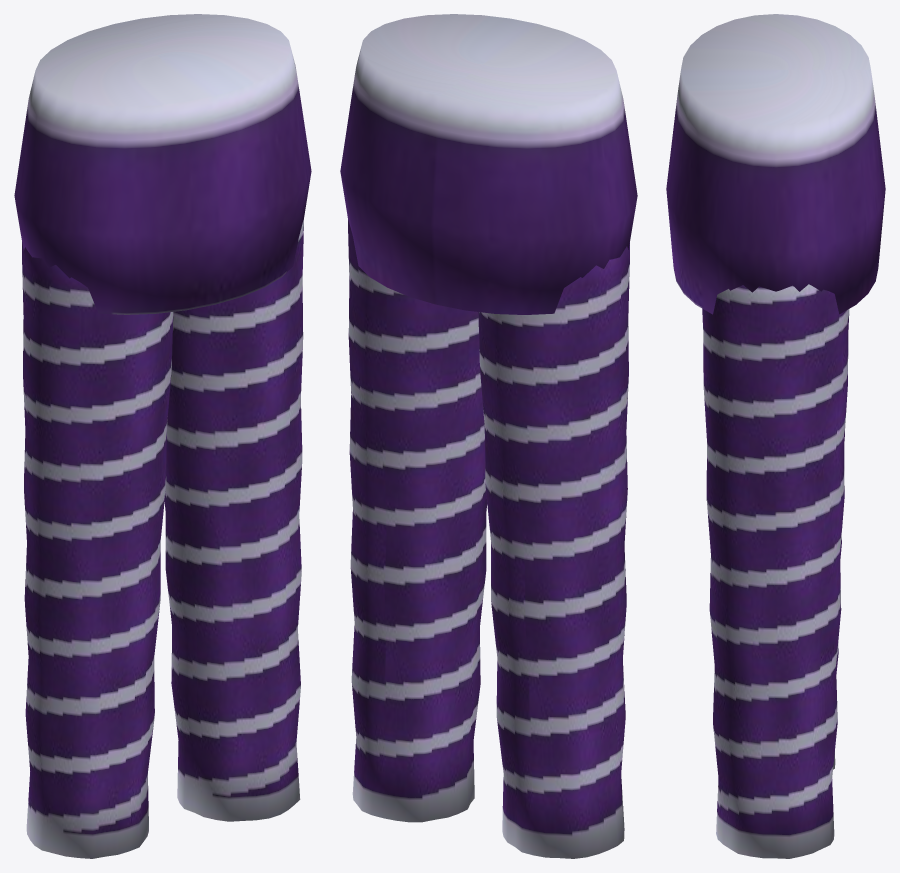
Rendered from amethyst_wraps_legs.glb.
3 renders of one model, left to right at view 1: azimuth 30°, elevation 25°; view 2: azimuth 150°, elevation 25°; view 3: azimuth 270°, elevation 25°, orthographic. The views are drawn at different scales.
Parts seen in each view (by area): view 1: amethyst_wraps_legs; view 2: amethyst_wraps_legs; view 3: amethyst_wraps_legs.
Part boxes in pixels (left/top/right/bottom): amethyst_wraps_legs: left=14, top=14, right=311, bottom=858; amethyst_wraps_legs: left=340, top=14, right=637, bottom=858; amethyst_wraps_legs: left=666, top=14, right=885, bottom=858.
Size of the model in its own units: 0.21 by 0.55 by 0.15.
Materials: 1 (1 with a texture image).
